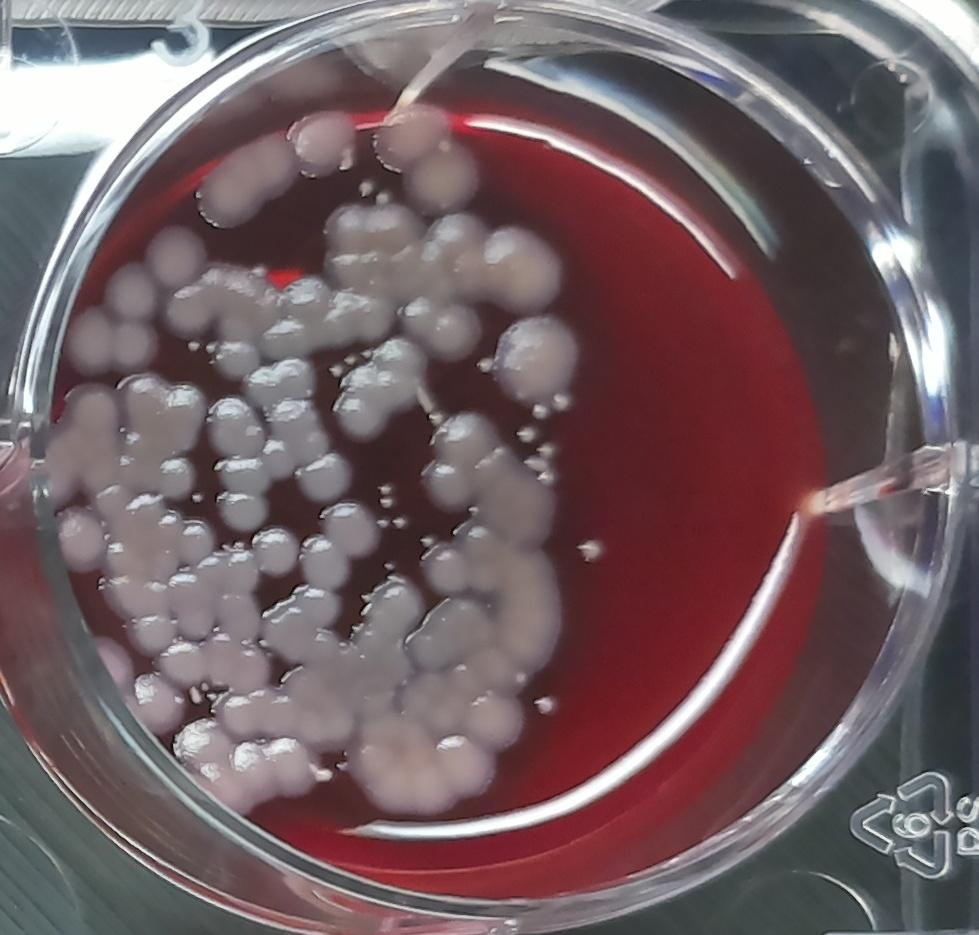staphylo-: (577, 534, 607, 568), (533, 694, 559, 720), (514, 423, 539, 449), (551, 390, 576, 415), (476, 353, 496, 379), (530, 401, 550, 425), (526, 455, 549, 473), (538, 442, 558, 460), (354, 179, 373, 197), (425, 409, 444, 427), (393, 513, 411, 532), (325, 362, 345, 379), (182, 340, 200, 356), (378, 480, 394, 497), (361, 346, 378, 362), (376, 495, 395, 509), (374, 191, 389, 207), (189, 487, 204, 503), (419, 533, 433, 548), (207, 339, 218, 357)
